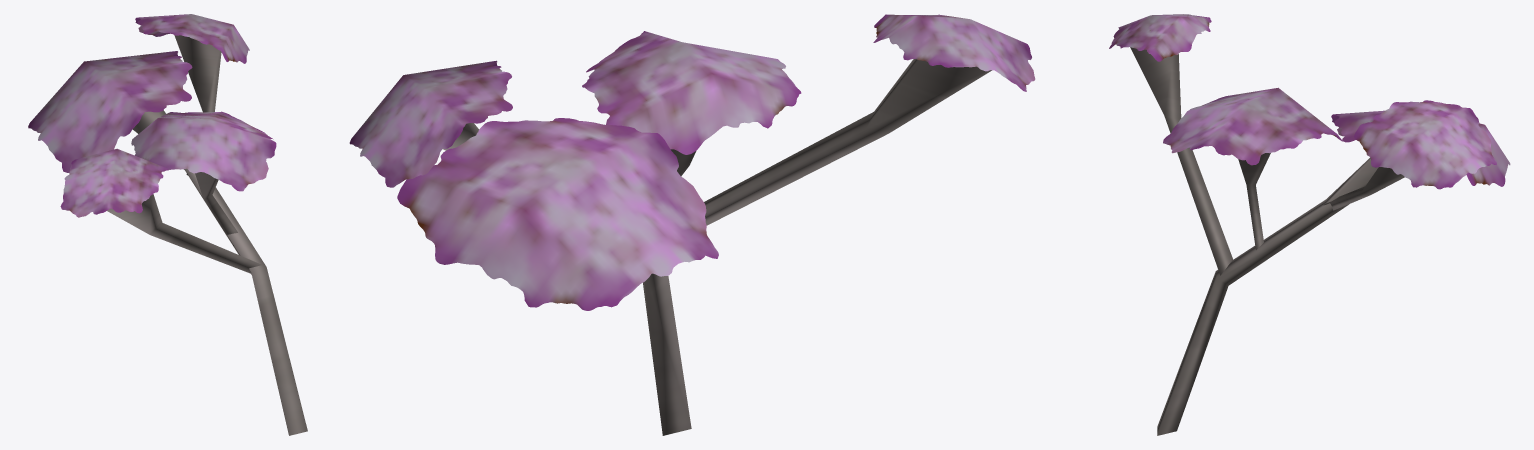
The model's file is Goniolimon.fbx.
3 renders of one model, left to right at view 1: azimuth 30°, elevation 25°; view 2: azimuth 150°, elevation 25°; view 3: azimuth 270°, elevation 25°, orthographic. The views are drawn at different scales.
Visible parts, largest first — view 1: Goniolimon; view 2: Goniolimon; view 3: Goniolimon.
Boxes of the visible parts, x1=… form: Goniolimon: x1=28, y1=14, x2=307, y2=435; Goniolimon: x1=349, y1=14, x2=1035, y2=435; Goniolimon: x1=1109, y1=14, x2=1510, y2=435.
Bounding box in the file's own units: 45.6 × 41.55 × 49.82.
